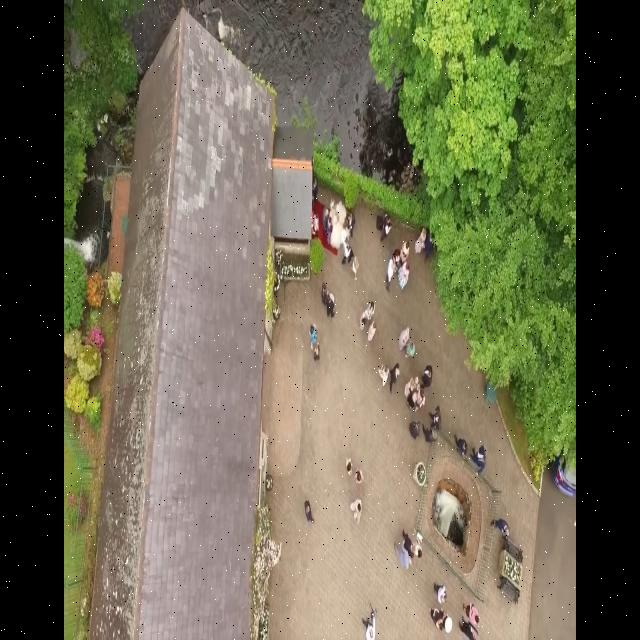humans: (356, 599, 380, 640), (391, 545, 413, 581), (409, 520, 426, 563), (470, 436, 488, 475), (448, 430, 471, 460), (304, 308, 321, 348), (459, 596, 482, 625), (396, 258, 410, 304), (301, 489, 314, 534), (381, 255, 395, 295), (488, 516, 510, 541), (348, 494, 363, 530), (397, 337, 417, 364), (308, 336, 322, 374), (405, 412, 423, 441), (419, 363, 436, 392), (431, 579, 449, 606), (421, 426, 440, 450), (377, 357, 391, 388), (364, 290, 376, 322), (392, 363, 402, 400), (364, 317, 377, 345), (400, 234, 411, 266), (350, 252, 359, 285), (325, 286, 334, 318), (429, 402, 442, 424)
